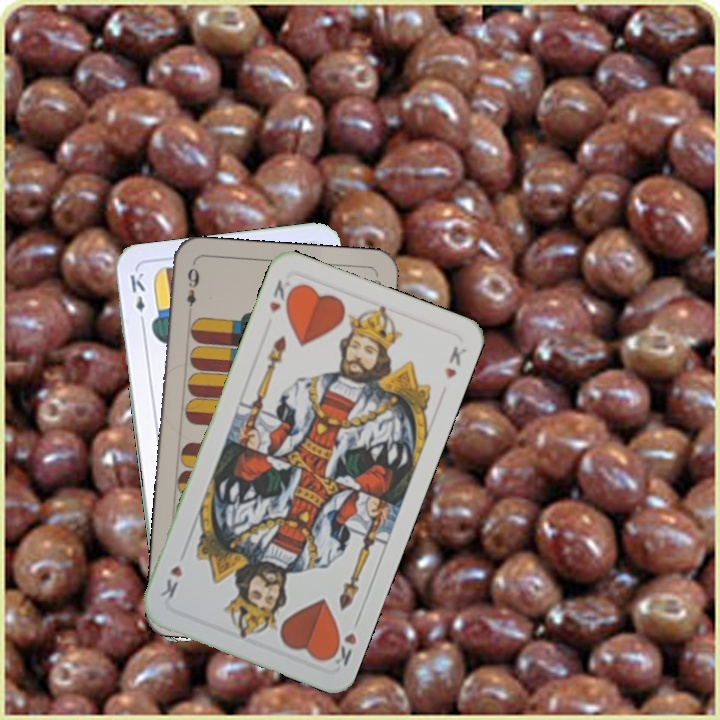E9: (182, 264, 202, 309)
EK: (126, 268, 148, 328)
HK: (325, 613, 363, 668), (265, 275, 298, 316)
